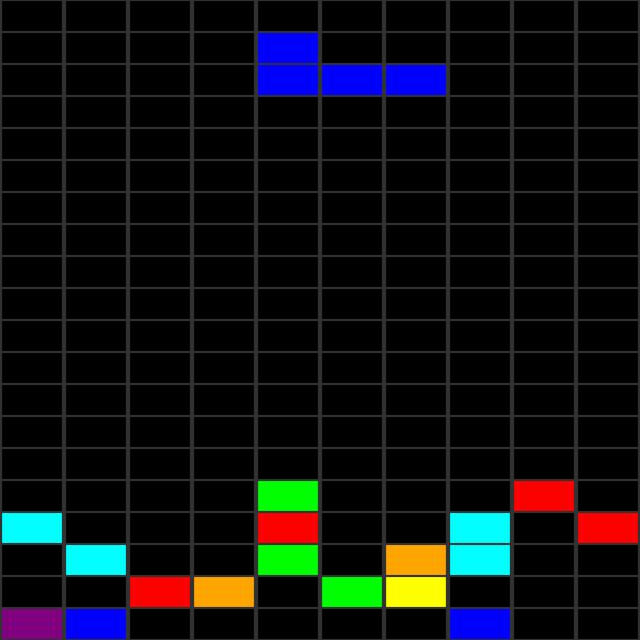Tetrimino_S: (256, 32, 450, 94)
